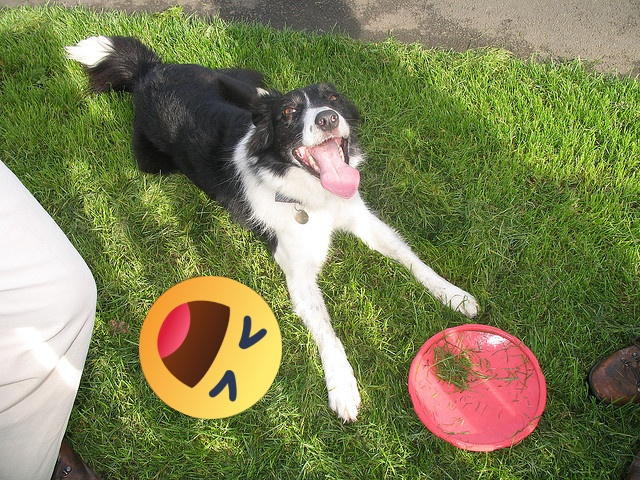haha: (139, 276, 282, 419)
